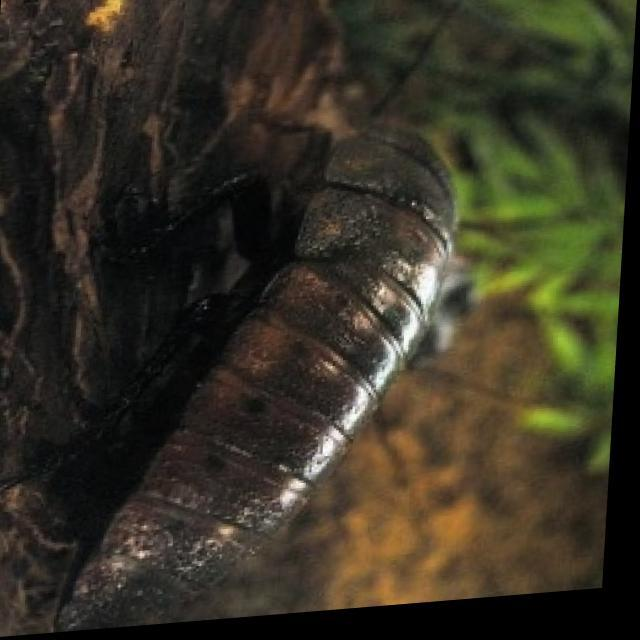cockroach: (53, 74, 496, 640)
